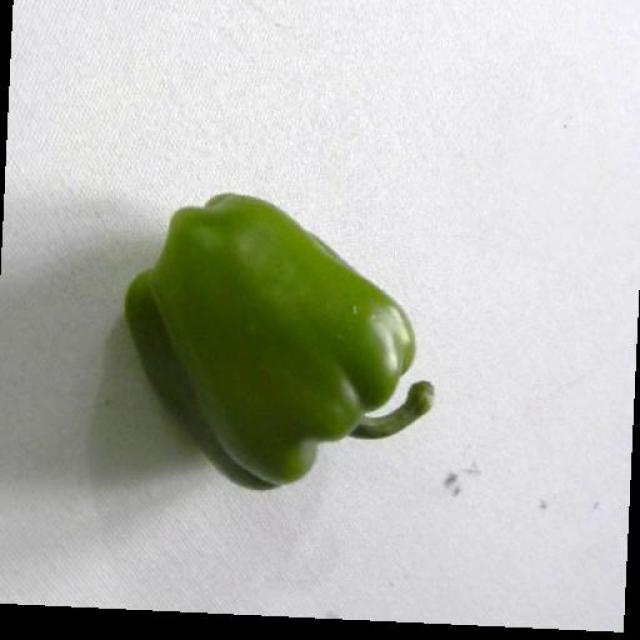Fresh_Capsicum: (154, 205, 438, 454)
